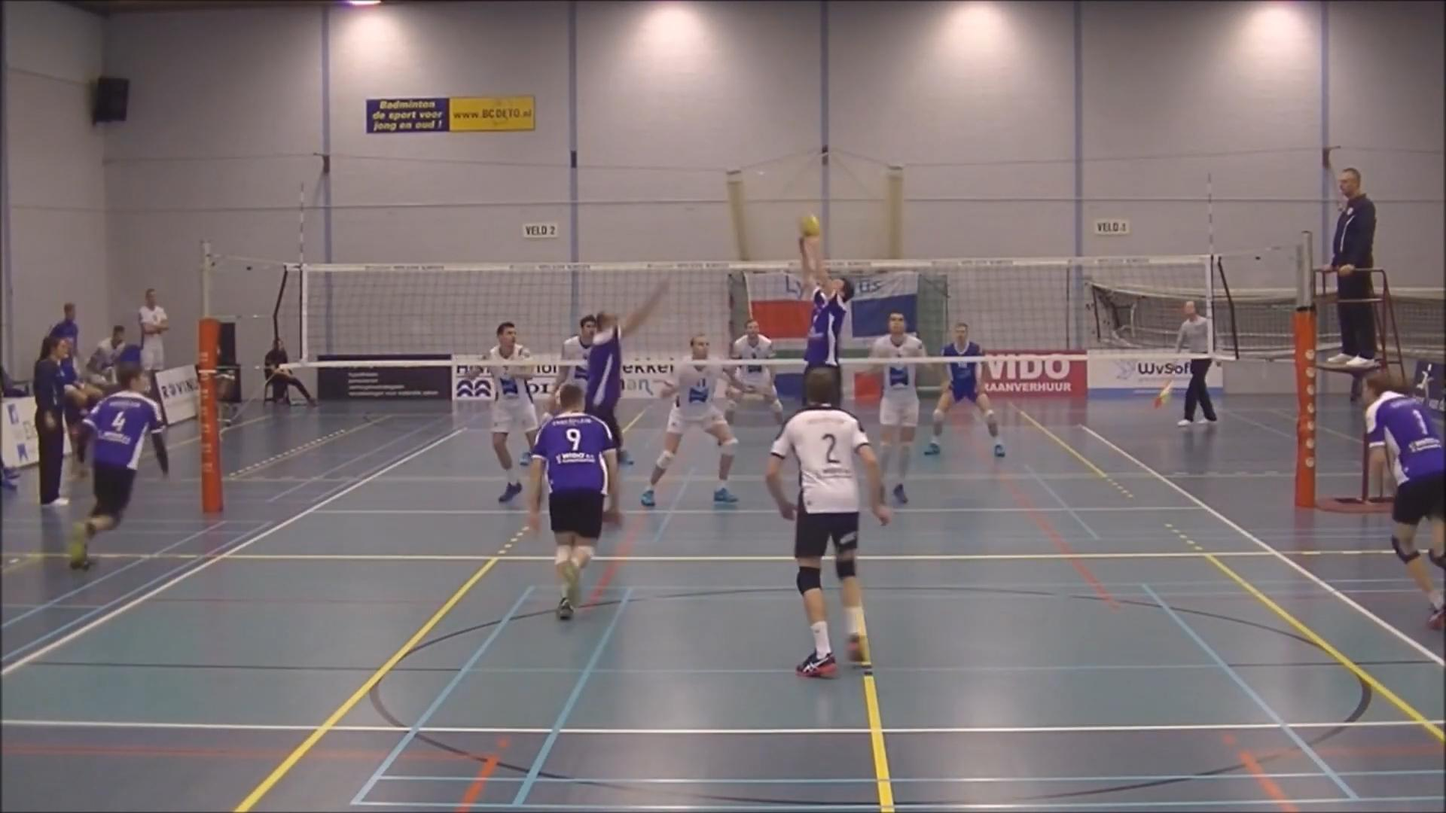Player: (765, 370, 891, 677), (529, 382, 620, 620), (1363, 374, 1445, 629), (69, 365, 168, 569), (641, 335, 737, 507), (585, 279, 670, 464), (924, 322, 1004, 457), (871, 312, 926, 503), (490, 364, 538, 502), (725, 318, 783, 425), (542, 315, 596, 422)
Set: (783, 231, 858, 421)
ball: (791, 207, 826, 240)
